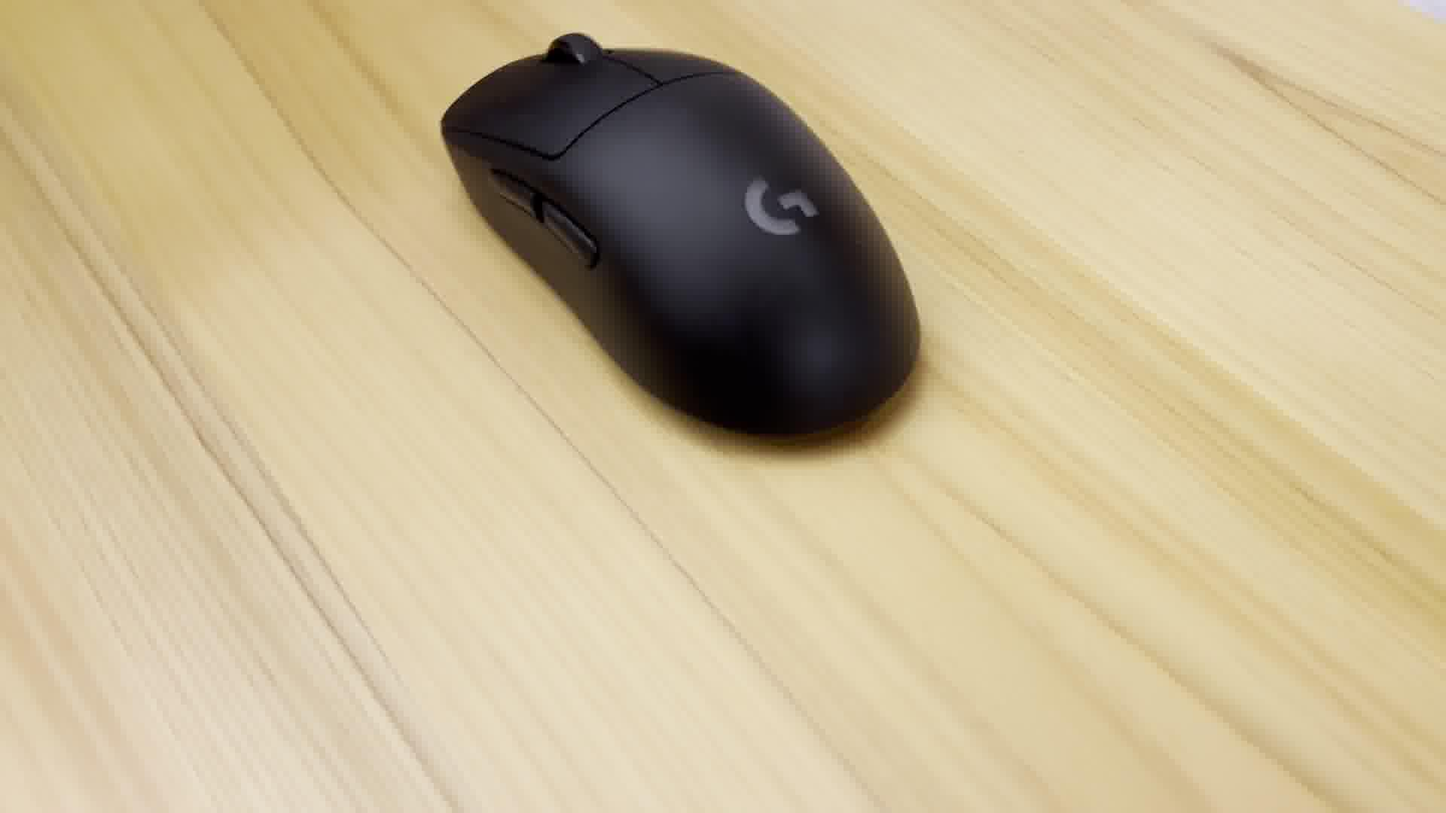mouse: (433, 29, 935, 453)
